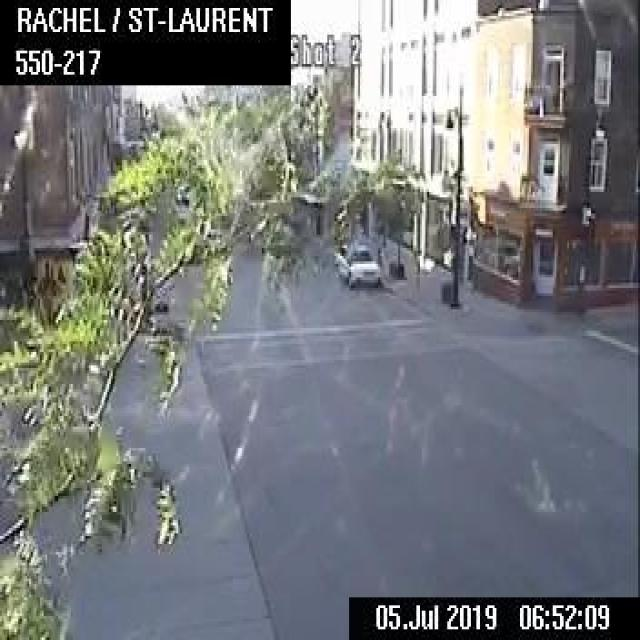vehicle: (334, 241, 382, 288)
